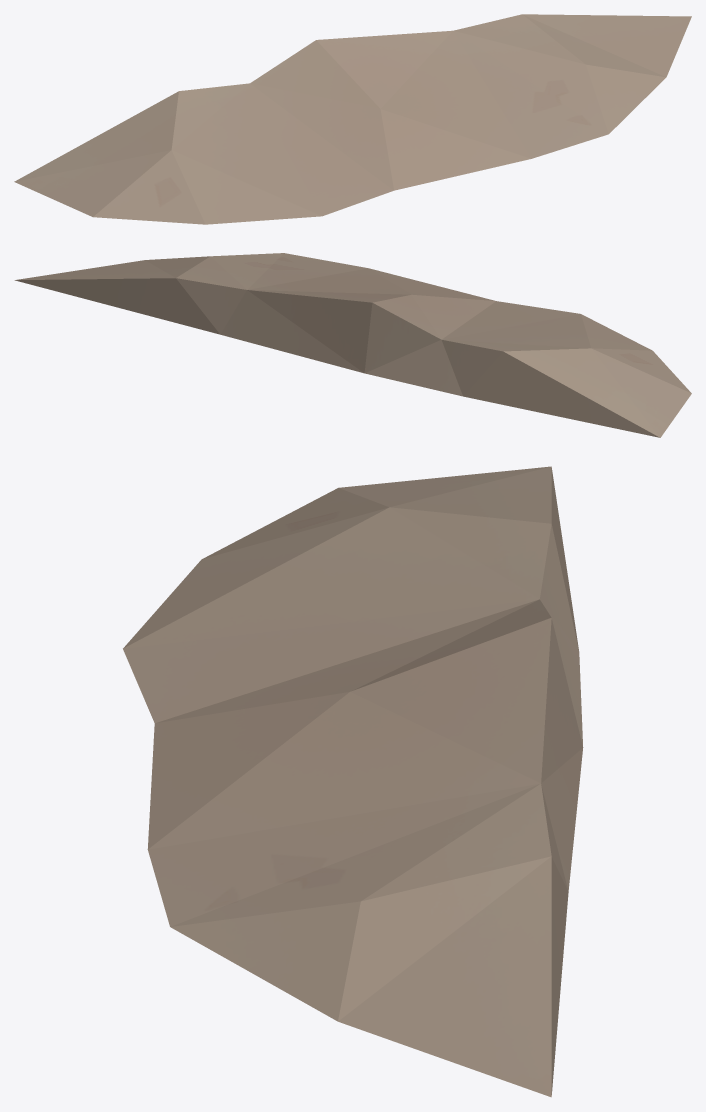
The model's file is SM_Env_Sand_Edge_01.fbx.
3 views of the same model, one above another, from view 1: azimuth 30°, elevation 25°; view 2: azimuth 150°, elevation 25°; view 3: azimuth 270°, elevation 25° (orthographic). The views are drawn at different scales.
Visible parts, largest first — view 1: SM_Env_Sand_Edge_01; view 2: SM_Env_Sand_Edge_01; view 3: SM_Env_Sand_Edge_01.
Part boxes in pixels (box(x1,y1,x2,y2)): SM_Env_Sand_Edge_01: box(14, 14, 691, 224); SM_Env_Sand_Edge_01: box(14, 253, 691, 437); SM_Env_Sand_Edge_01: box(123, 466, 583, 1097).
Size of the model in its own units: 453 by 43.5 by 140.
